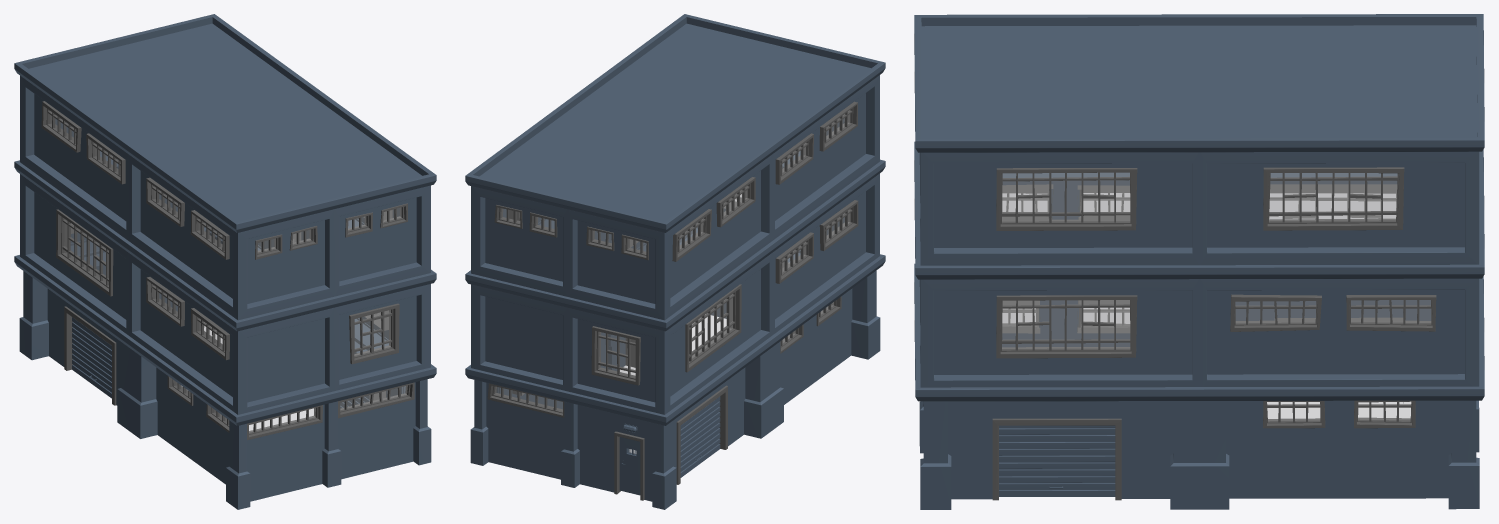
File: Building_7.fbx
The picture shows the model from 3 angles, left to right: view 1: azimuth 30°, elevation 25°; view 2: azimuth 150°, elevation 25°; view 3: azimuth 270°, elevation 25°; orthographic projection. The views are drawn at different scales.
Parts seen in each view (by area): view 1: Building_7_GEO; view 2: Building_7_GEO; view 3: Building_7_GEO.
Boxes of the visible parts, x1,y1,x2,y2 form: Building_7_GEO: [14, 14, 436, 509]; Building_7_GEO: [465, 14, 885, 509]; Building_7_GEO: [914, 14, 1484, 509].
Bounding box in the file's own units: 7.55 × 10.28 × 14.31.
